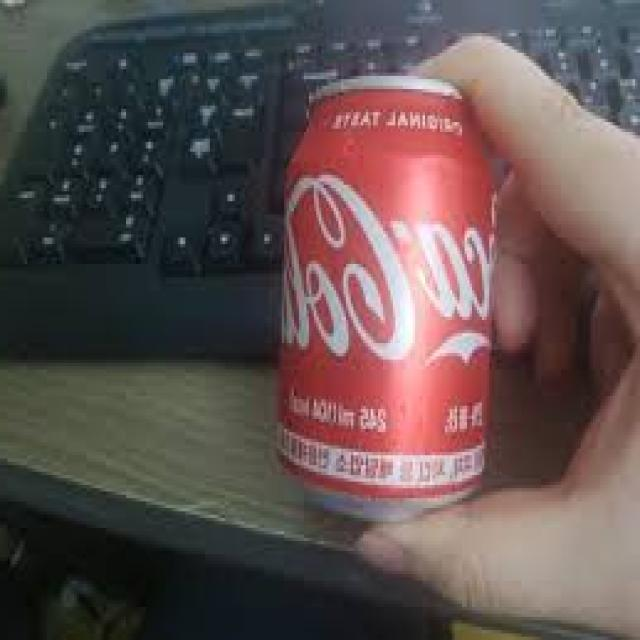Coca-Cola: (264, 71, 513, 529)
